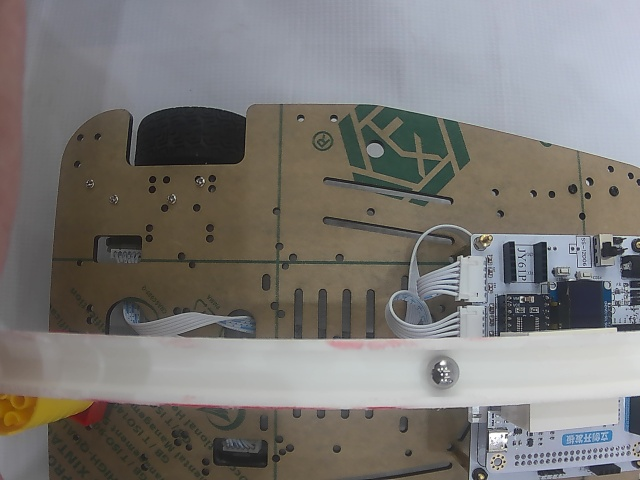steelball: (427, 356, 458, 389)
